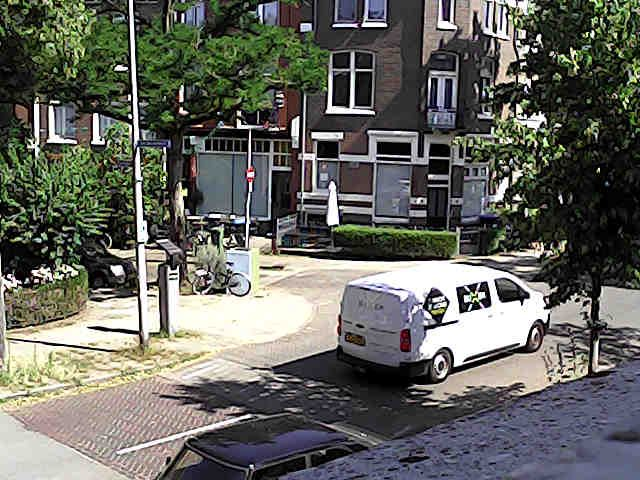whitevan: (337, 261, 549, 381)
